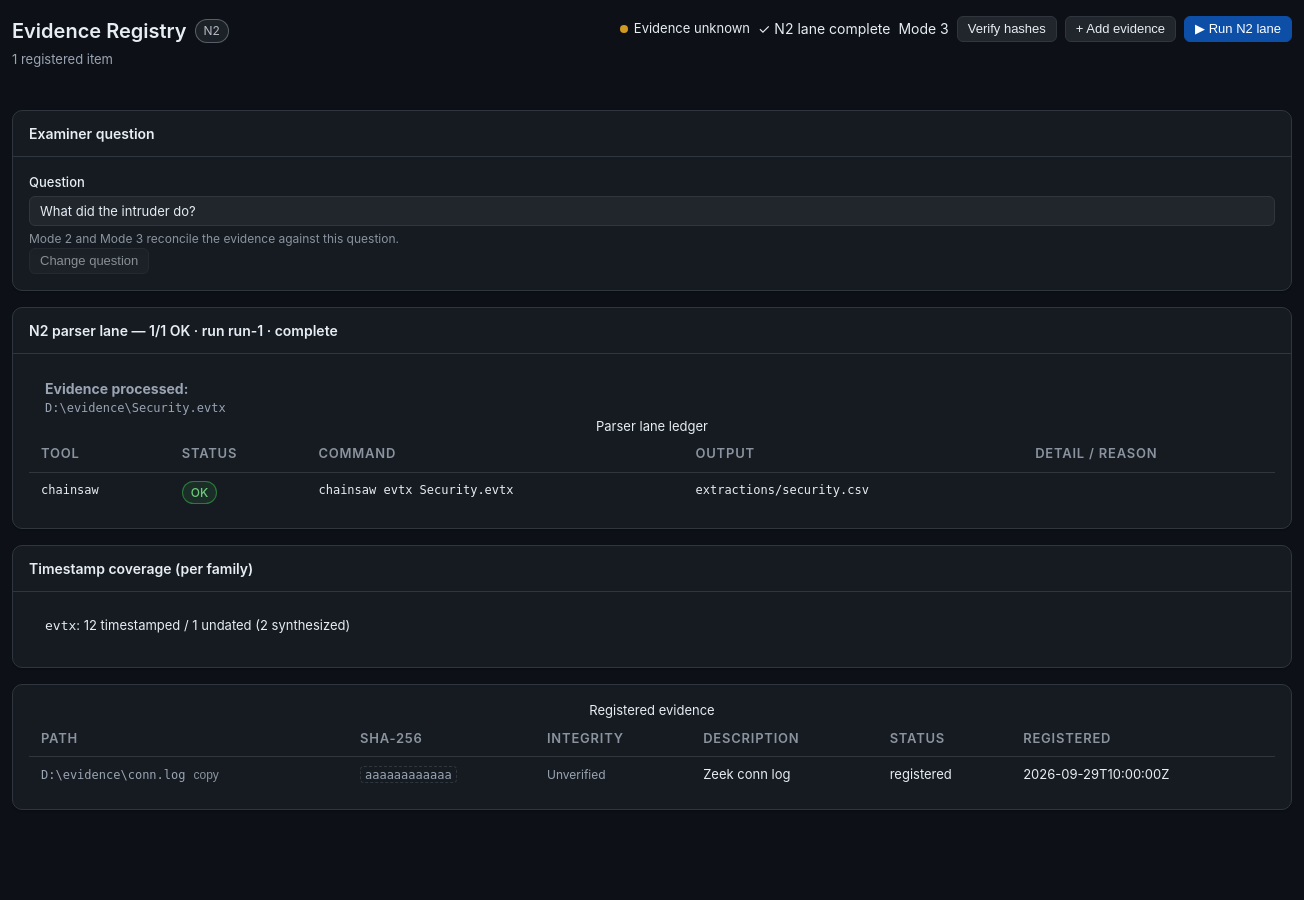
it: Evidence (migrated) › changes an existing question and shows a save failure
Replace the text in the field showing "What did the intruder do?" with "Was data taken?" at (652, 211), box top-left (29, 196), bottom-right (1275, 226)
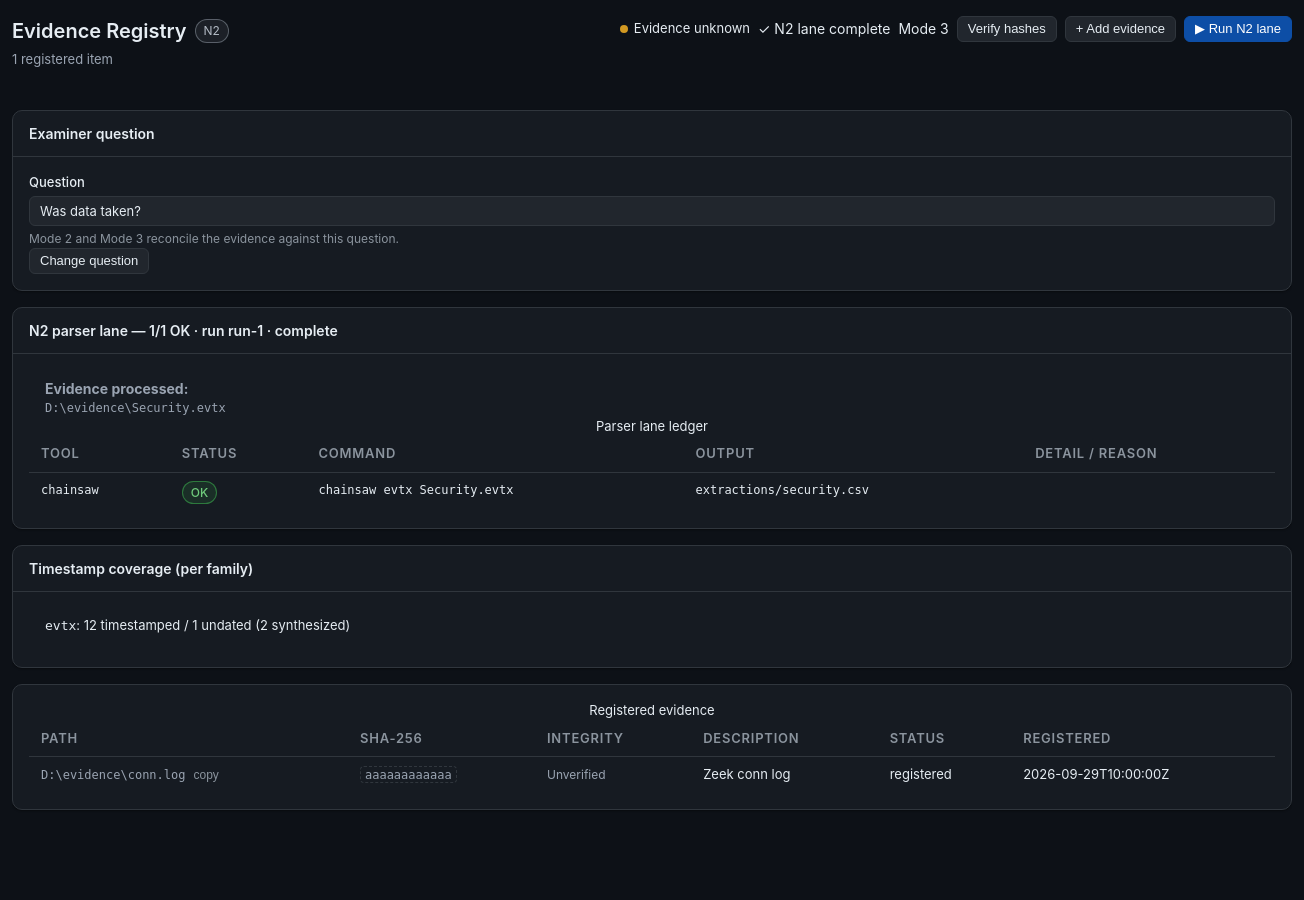
Click the button "Change question" at (89, 261), box top-left (29, 248), bottom-right (149, 274)
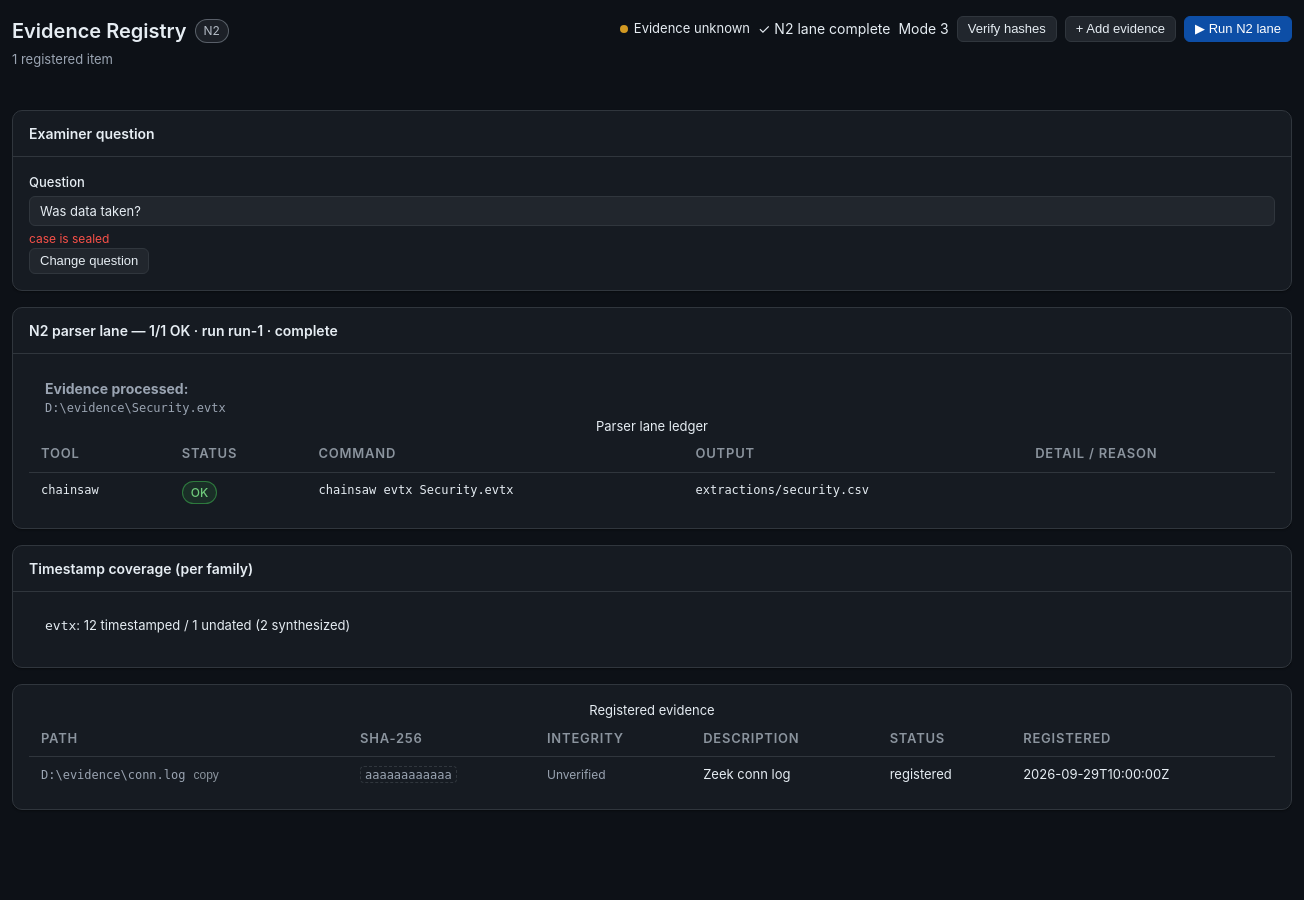
Expected: the text "case is sealed" is shown, top-left (29, 231), bottom-right (110, 246)
